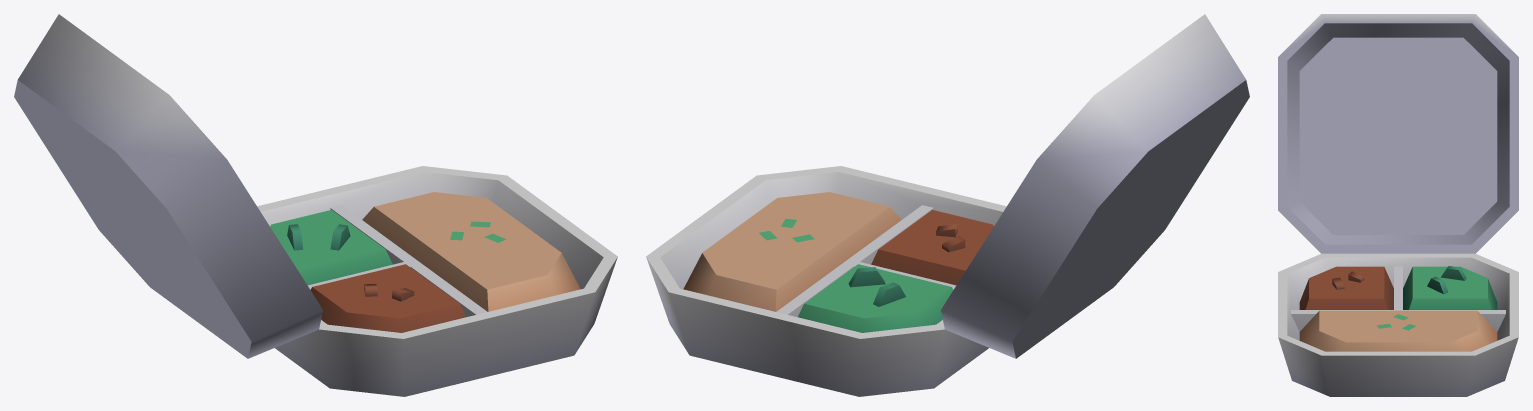
File: styrofoam-dinner.glb
3 views of the same model, side by side, from view 1: azimuth 30°, elevation 25°; view 2: azimuth 150°, elevation 25°; view 3: azimuth 270°, elevation 25° (orthographic). The views are drawn at different scales.
Visible parts, largest first — view 1: lid, styrofoam-dinner, Group (×3); view 2: lid, styrofoam-dinner, Group (×3); view 3: lid, styrofoam-dinner, Group (×3).
Boxes of the visible parts, x1,y1,x2,y2 form: lid: (14,14,322,358); styrofoam-dinner: (257,166,617,396); Group (×3): (270,192,580,332); lid: (941,14,1249,358); styrofoam-dinner: (646,166,1006,396); Group (×3): (683,192,993,332); lid: (1278,14,1518,253); styrofoam-dinner: (1278,253,1518,396); Group (×3): (1299,266,1497,351).
Bounding box in the file's own units: 1.26 × 0.822 × 0.7589.
